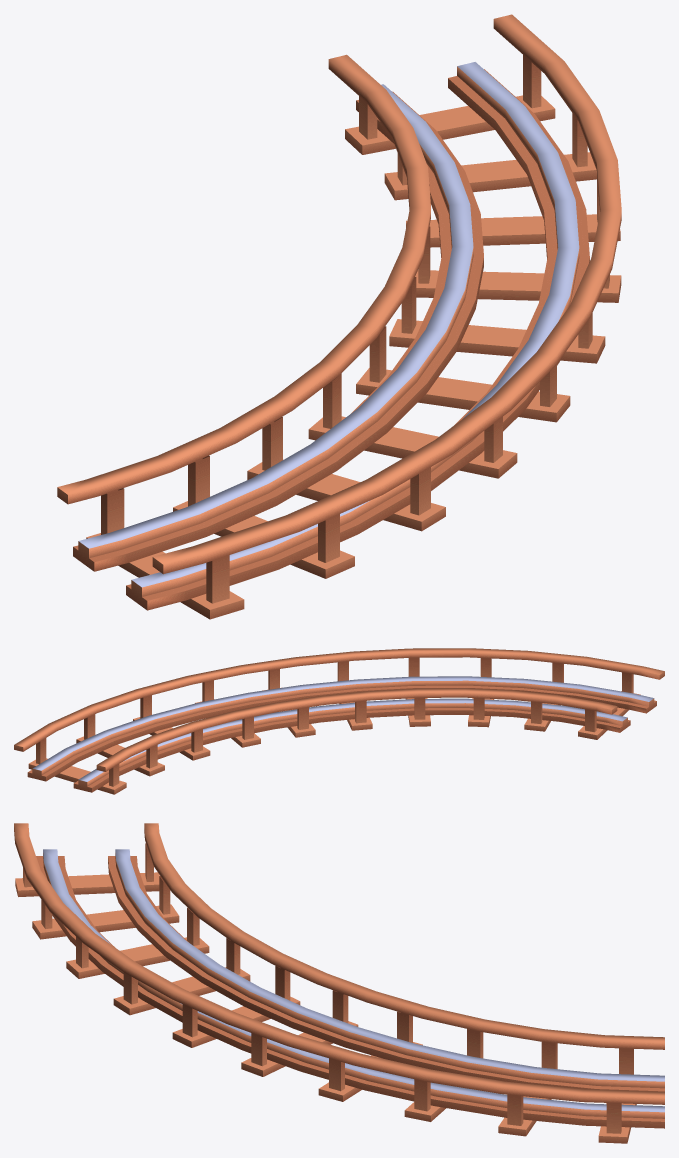
File: coaster-wood-corner-large.glb
3 views of the same model, one above another, from view 1: azimuth 30°, elevation 25°; view 2: azimuth 150°, elevation 25°; view 3: azimuth 270°, elevation 25° (orthographic). The views are drawn at different scales.
Parts seen in each view (by area): view 1: coaster-wood-corner-large; view 2: coaster-wood-corner-large; view 3: coaster-wood-corner-large.
Boxes of the visible parts, left/top/right/bottom form: coaster-wood-corner-large: left=57, top=14, right=621, bottom=619; coaster-wood-corner-large: left=14, top=648, right=664, bottom=794; coaster-wood-corner-large: left=14, top=823, right=664, bottom=1143.
Bounding box in the file's own units: 13.5 × 1.05 × 13.5.
1 material, 1 textured.
